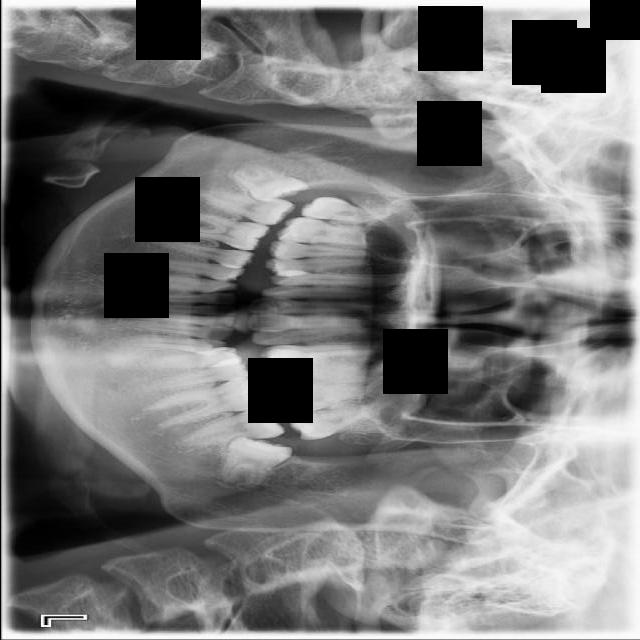73: (38, 601, 47, 607)
BioHorizons Implant: (287, 401, 398, 442)
Biomet 3i Implant: (215, 429, 294, 499)
Blue Sky Bio Implant: (169, 404, 286, 450)
Caries: (299, 193, 409, 231)
Implant: (194, 186, 296, 229)
Keystone Dental Implant: (225, 153, 310, 218)
